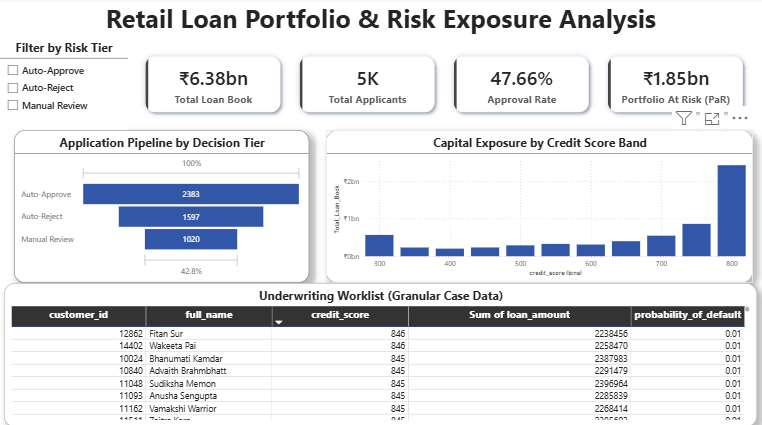

The page's visual inventory and layout, read from the dashboard file:
{"tool":"powerbi","page":{"name":"Page 1","canvas":[1280,720],"ordinal":0},"visuals":[{"type":"cardVisual","fields":{"Data":["credit_risk_db portfolio_risk_mart.Total_Loan_Book","credit_risk_db portfolio_risk_mart.Total_Applicants","credit_risk_db portfolio_risk_mart.Approval_Rate","credit_risk_db portfolio_risk_mart.Portfolio_At_Risk"]},"box":[215,68.9,1065,152.9],"z":0},{"type":"funnel","title":"Application Pipeline by Decision Tier","fields":{"Category":["credit_risk_db portfolio_risk_mart.decision_tier"],"Y":["credit_risk_db portfolio_risk_mart.Total_Applicants"]},"box":[23.5,221.7,495.5,257],"z":1000},{"type":"clusteredColumnChart","title":"Capital Exposure by Credit Score Band","fields":{"Category":["credit_risk_db portfolio_risk_mart.credit_score (bins)"],"Y":["credit_risk_db portfolio_risk_mart.Total_Loan_Book"]},"box":[547.6,221.7,717.3,257],"z":2000},{"type":"slicer","title":"Filter by Risk Tier","fields":{"Values":["credit_risk_db portfolio_risk_mart.decision_tier"]},"box":[0,85.7,215,136.1],"z":3000},{"type":"tableEx","title":"Underwriting Worklist (Granular Case Data)","fields":{"Values":["credit_risk_db portfolio_risk_mart.customer_id","credit_risk_db portfolio_risk_mart.full_name","credit_risk_db portfolio_risk_mart.credit_score","Sum(credit_risk_db portfolio_risk_mart.loan_amount)","credit_risk_db portfolio_risk_mart.probability_of_default"]},"box":[6.7,478.7,1264.9,241.9],"z":4000},{"type":"textbox","box":[0,0,1280,68.9],"z":5000}]}

Visuals, with their boxes in screenshot pixels (x1, y1, x2, y2), scaled from the page's 1280x720 canvas onto the 762x425 screenshot:
cardVisual - credit_risk_db portfolio_risk_mart.Total_Loan_Book x credit_risk_db portfolio_risk_mart.Total_Applicants: l=128, t=41, r=761, b=131
"Application Pipeline by Decision Tier" funnel: l=14, t=131, r=309, b=283
"Capital Exposure by Credit Score Band" clusteredColumnChart: l=326, t=131, r=753, b=283
"Filter by Risk Tier" slicer: l=0, t=51, r=128, b=131
"Underwriting Worklist (Granular Case Data)" tableEx: l=4, t=283, r=757, b=424
textbox: l=0, t=0, r=761, b=41
